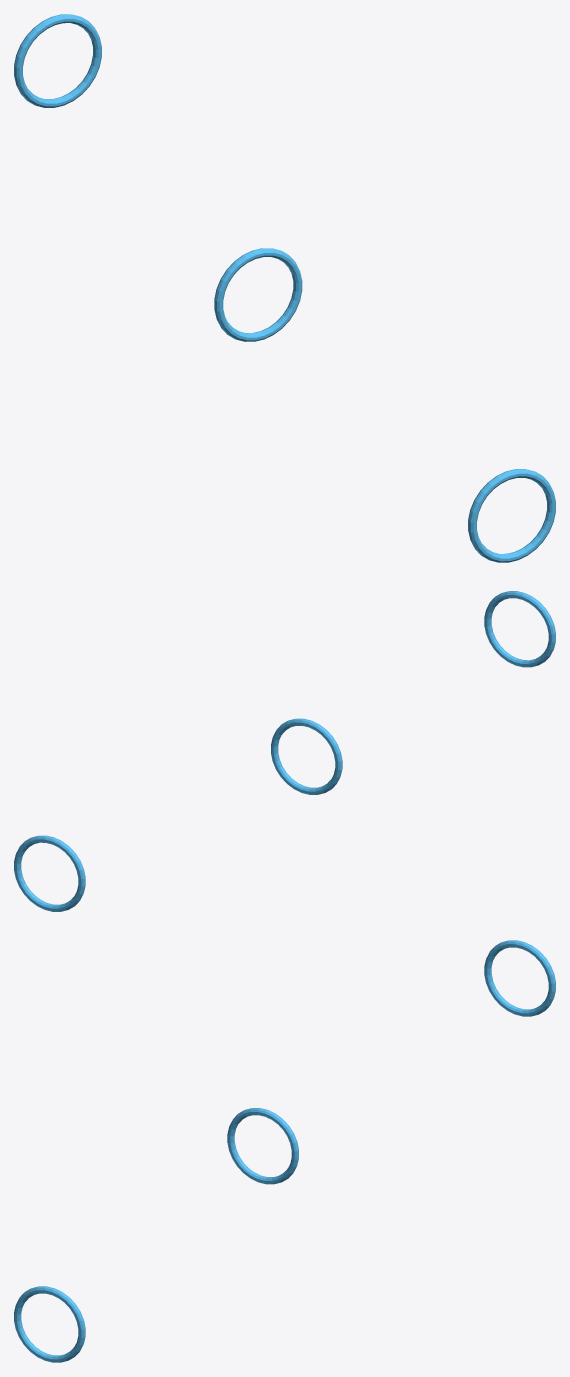
File: mar-de-nubes_Aros.glb
The picture shows the model from 3 angles, top to bottom: view 1: azimuth 30°, elevation 25°; view 2: azimuth 150°, elevation 25°; view 3: azimuth 330°, elevation 25°; orthographic projection. The views are drawn at different scales.
Visible parts, largest first — view 1: Mapa_mar_de_nubes_Aros; view 2: Mapa_mar_de_nubes_Aros; view 3: Mapa_mar_de_nubes_Aros.
Part boxes in pixels (left/top/right/bottom): Mapa_mar_de_nubes_Aros: left=14, top=14, right=555, bottom=562; Mapa_mar_de_nubes_Aros: left=14, top=591, right=555, bottom=911; Mapa_mar_de_nubes_Aros: left=14, top=940, right=555, bottom=1362.
Bounding box in the file's own units: 29.9 × 29.49 × 182.
1 material, 1 textured.
